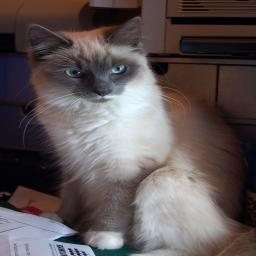catnose: (90, 87, 114, 97)
